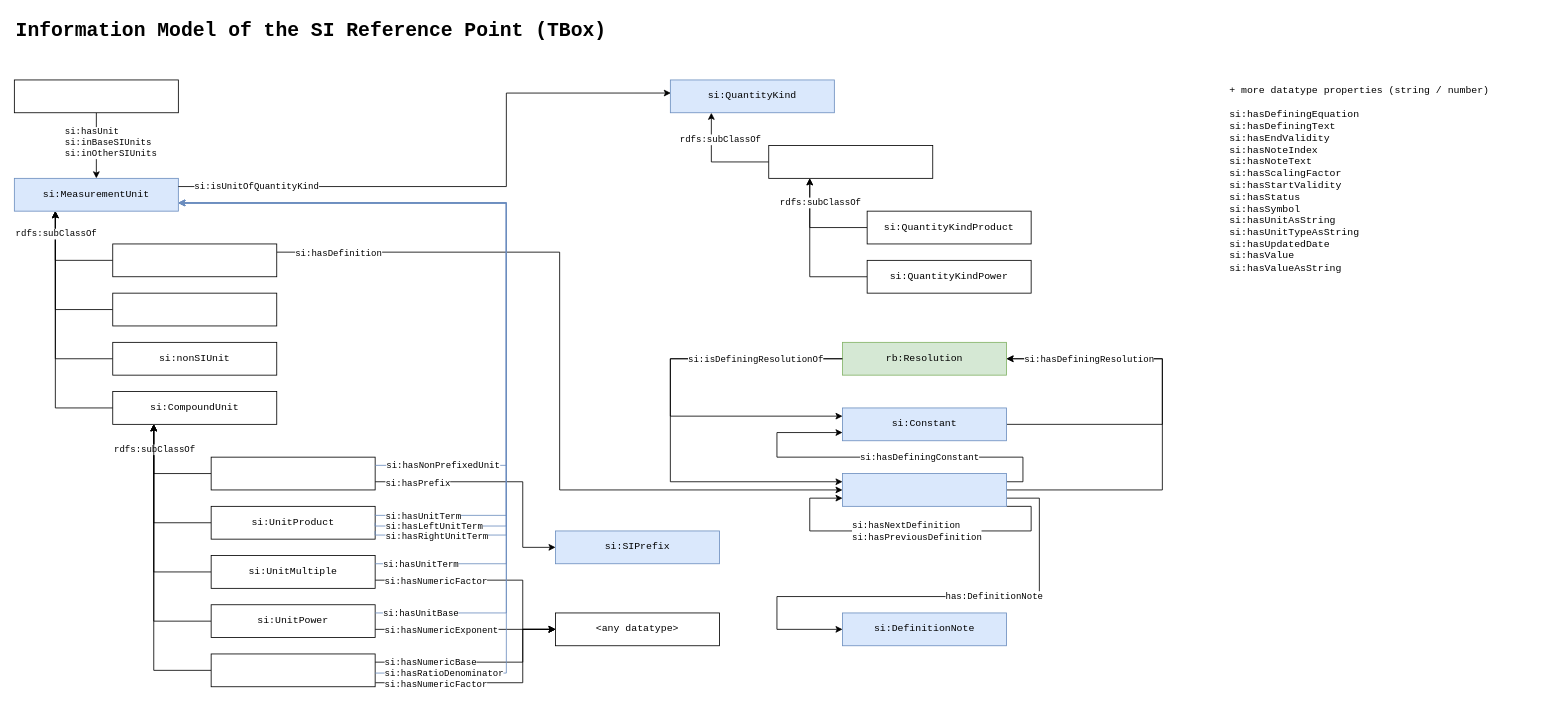
The diagram is 1554 pixels wide and 704 high, and some of its shapes have lost their labels. Each missing label, with the centre of its shape:
"owl:Thing" belongs at point 96,96.
"si:CompoundQuantityKind" belongs at point 850,161.
"si:Definition" belongs at point 924,489.
"si:LogarithmicUnit" belongs at point 292,670.
"si:PrefixedUnit" belongs at point 292,473.
"si:SIBaseUnit" belongs at point 194,260.
"si:SISpecialNamedUnit" belongs at point 194,309.
